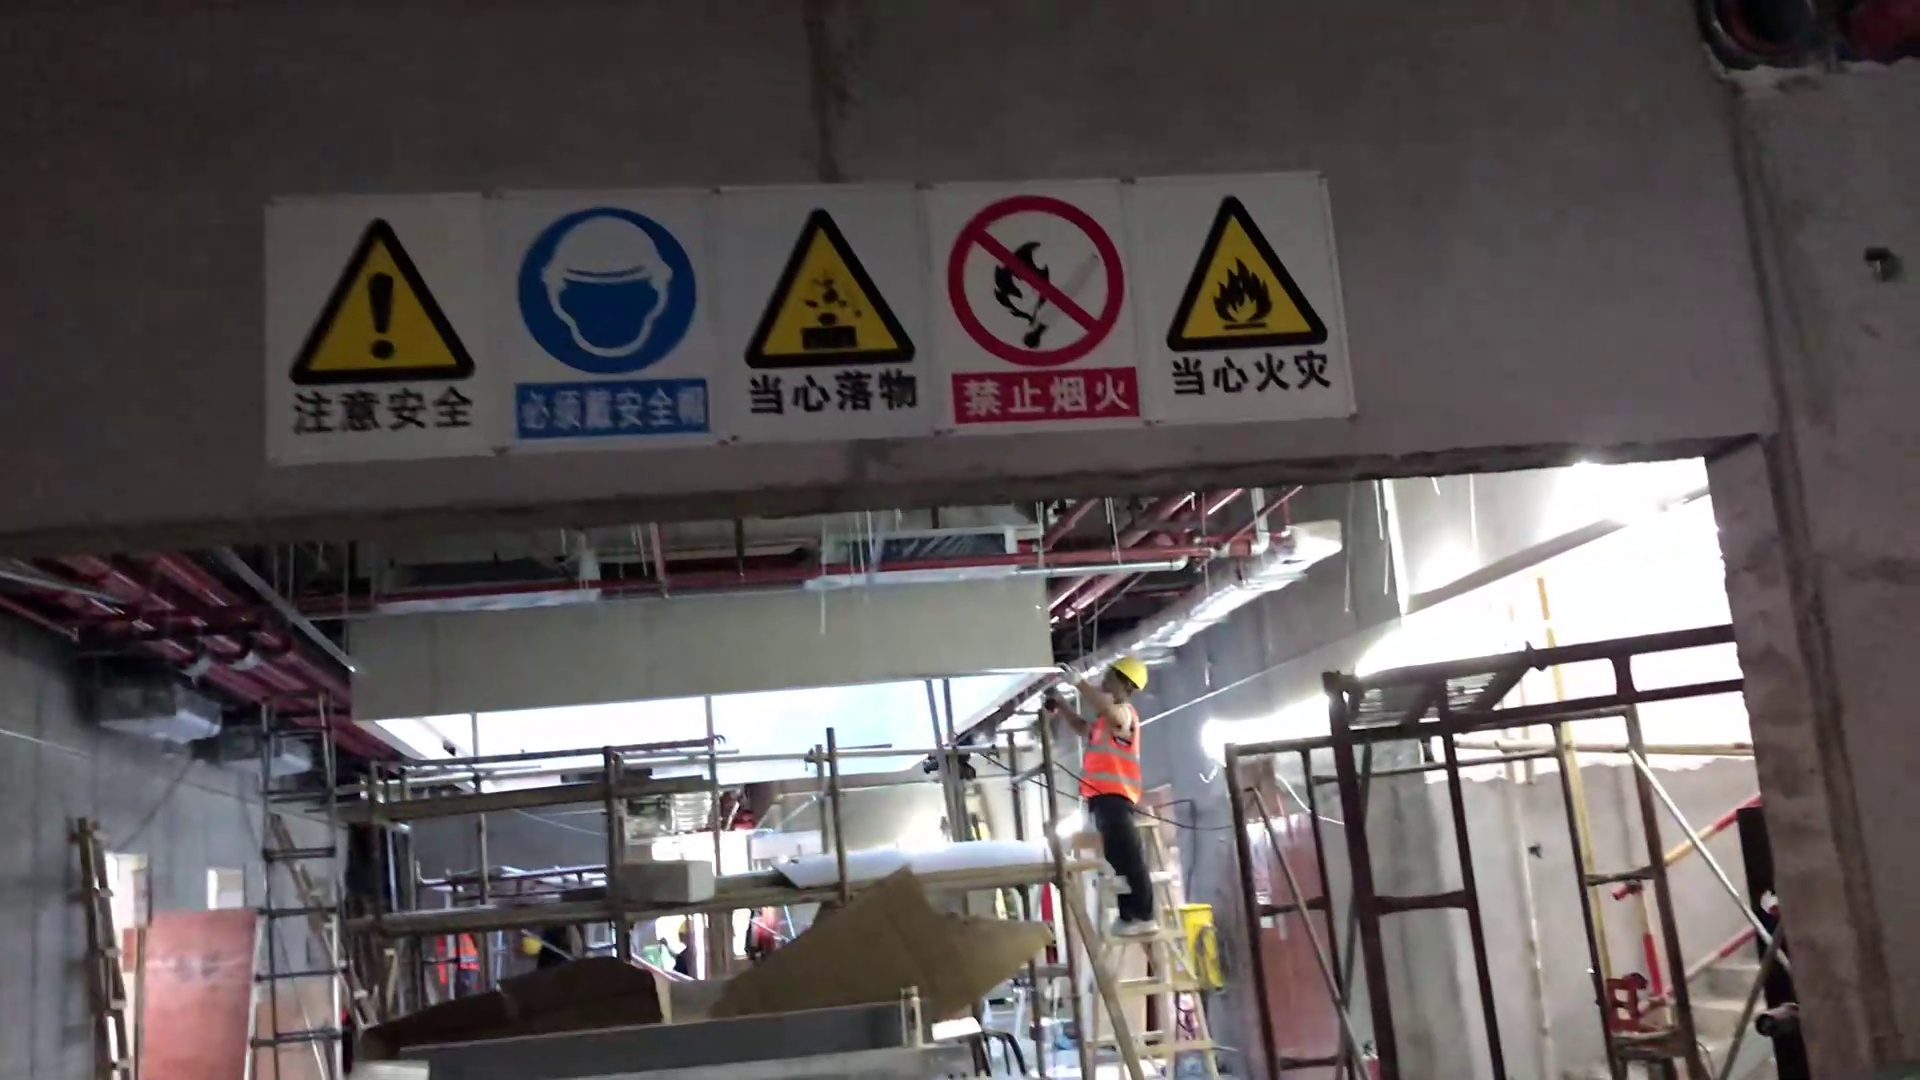helmet: (1107, 652, 1153, 685)
person: (1047, 654, 1165, 929)
vest: (1071, 704, 1153, 813), (432, 930, 481, 984)
